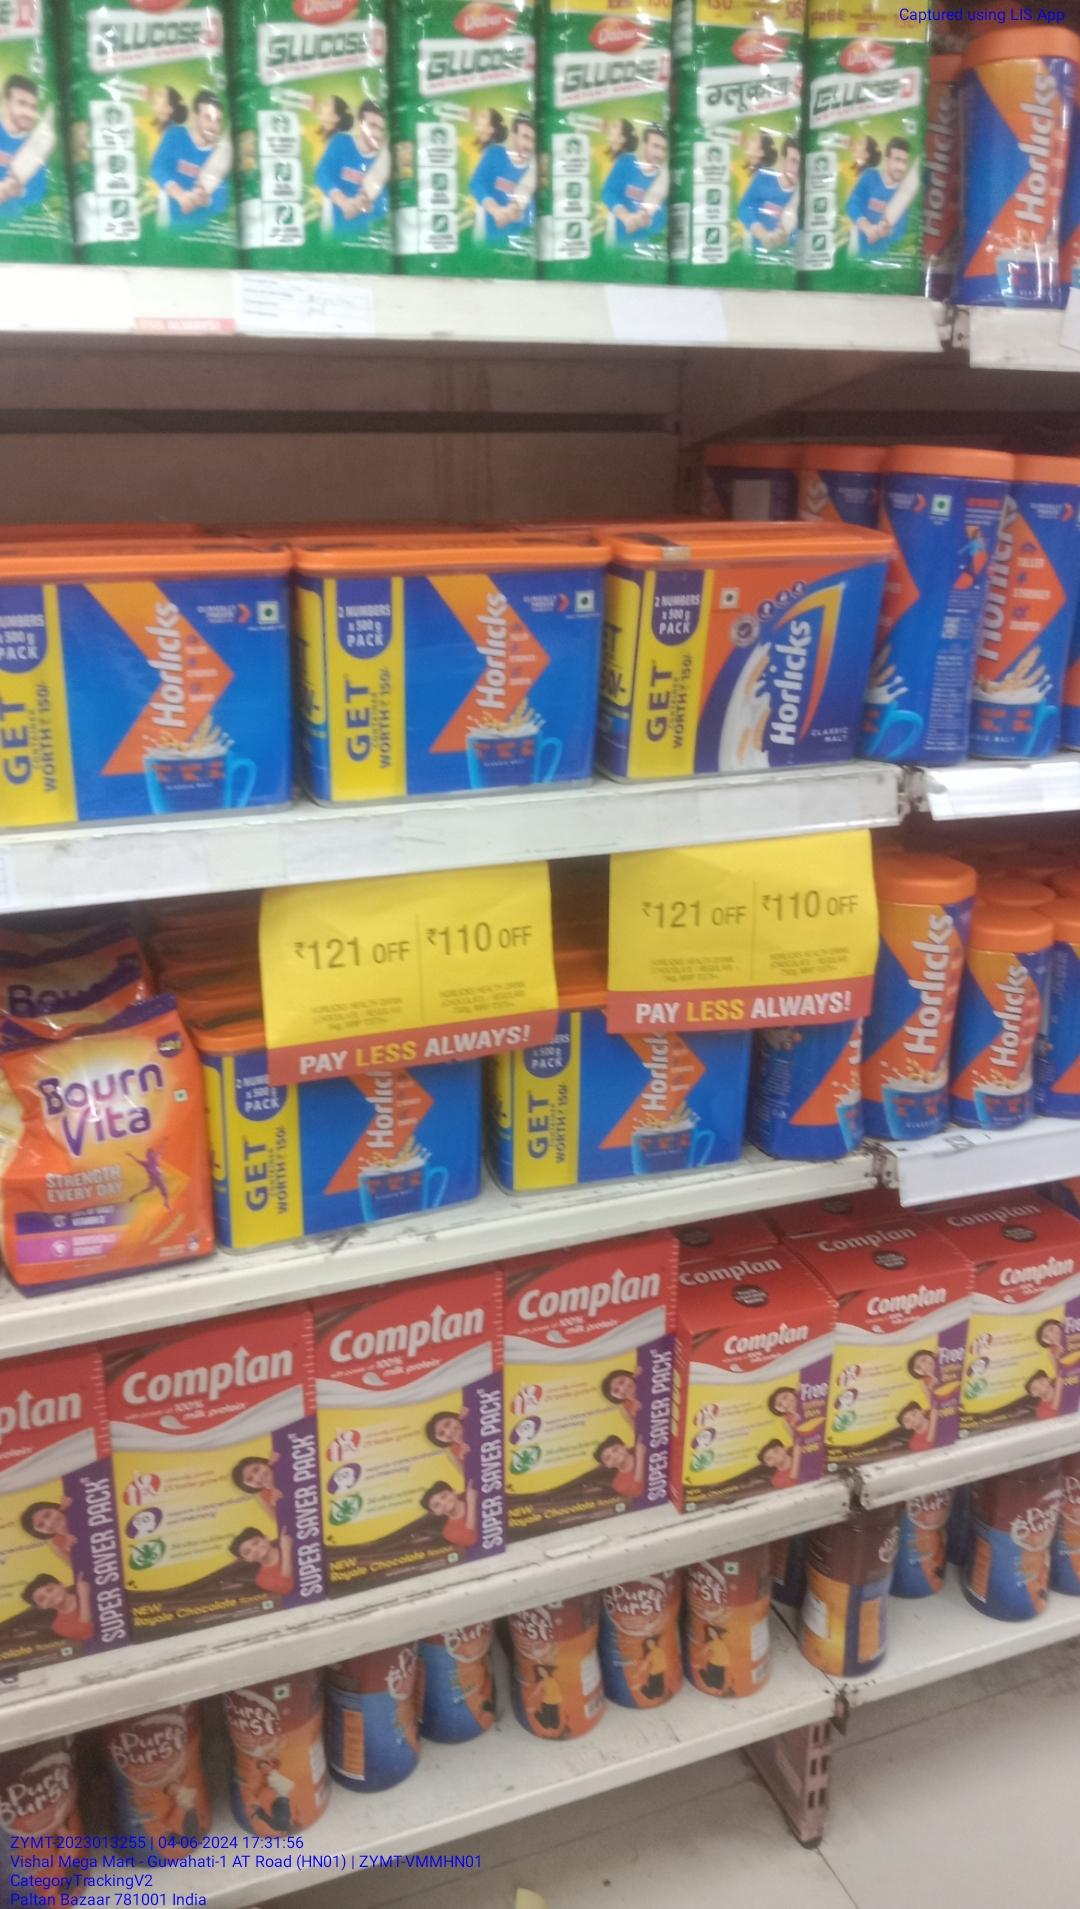BOURN_VITA_750_G_POUCH: (5, 1012, 197, 1272)
COMPLAN_CHOCOLATE_1_KG_PACK: (117, 1323, 313, 1619), (321, 1281, 503, 1580), (511, 1257, 675, 1521)
COMPLAN_CHOCOLATE_500_GMS_PACK: (682, 1320, 830, 1512), (838, 1284, 963, 1450), (971, 1268, 1080, 1430)
HORLICK_CLASSIC_MALT_500_G_JAR: (959, 26, 1079, 311), (962, 920, 1038, 1126)
HORLICK_MALT_1_KG_CONTAINER: (0, 552, 295, 812), (308, 551, 596, 795), (613, 544, 866, 772), (224, 1070, 485, 1225), (502, 1045, 744, 1193)
